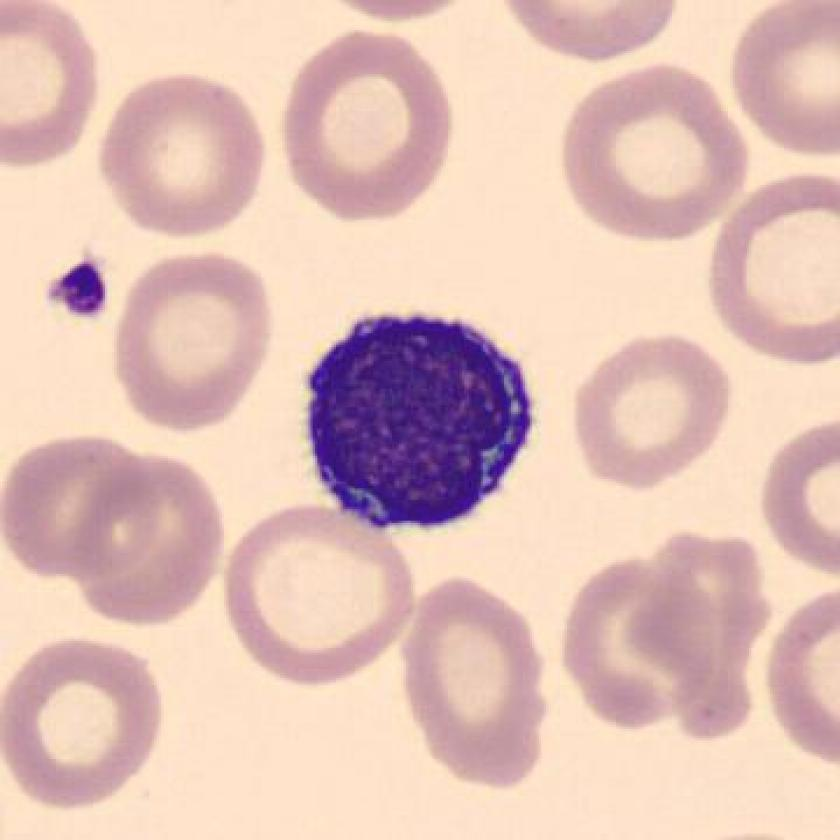lymphocyte: (291, 297, 550, 552)
platelets: (39, 254, 114, 320)
